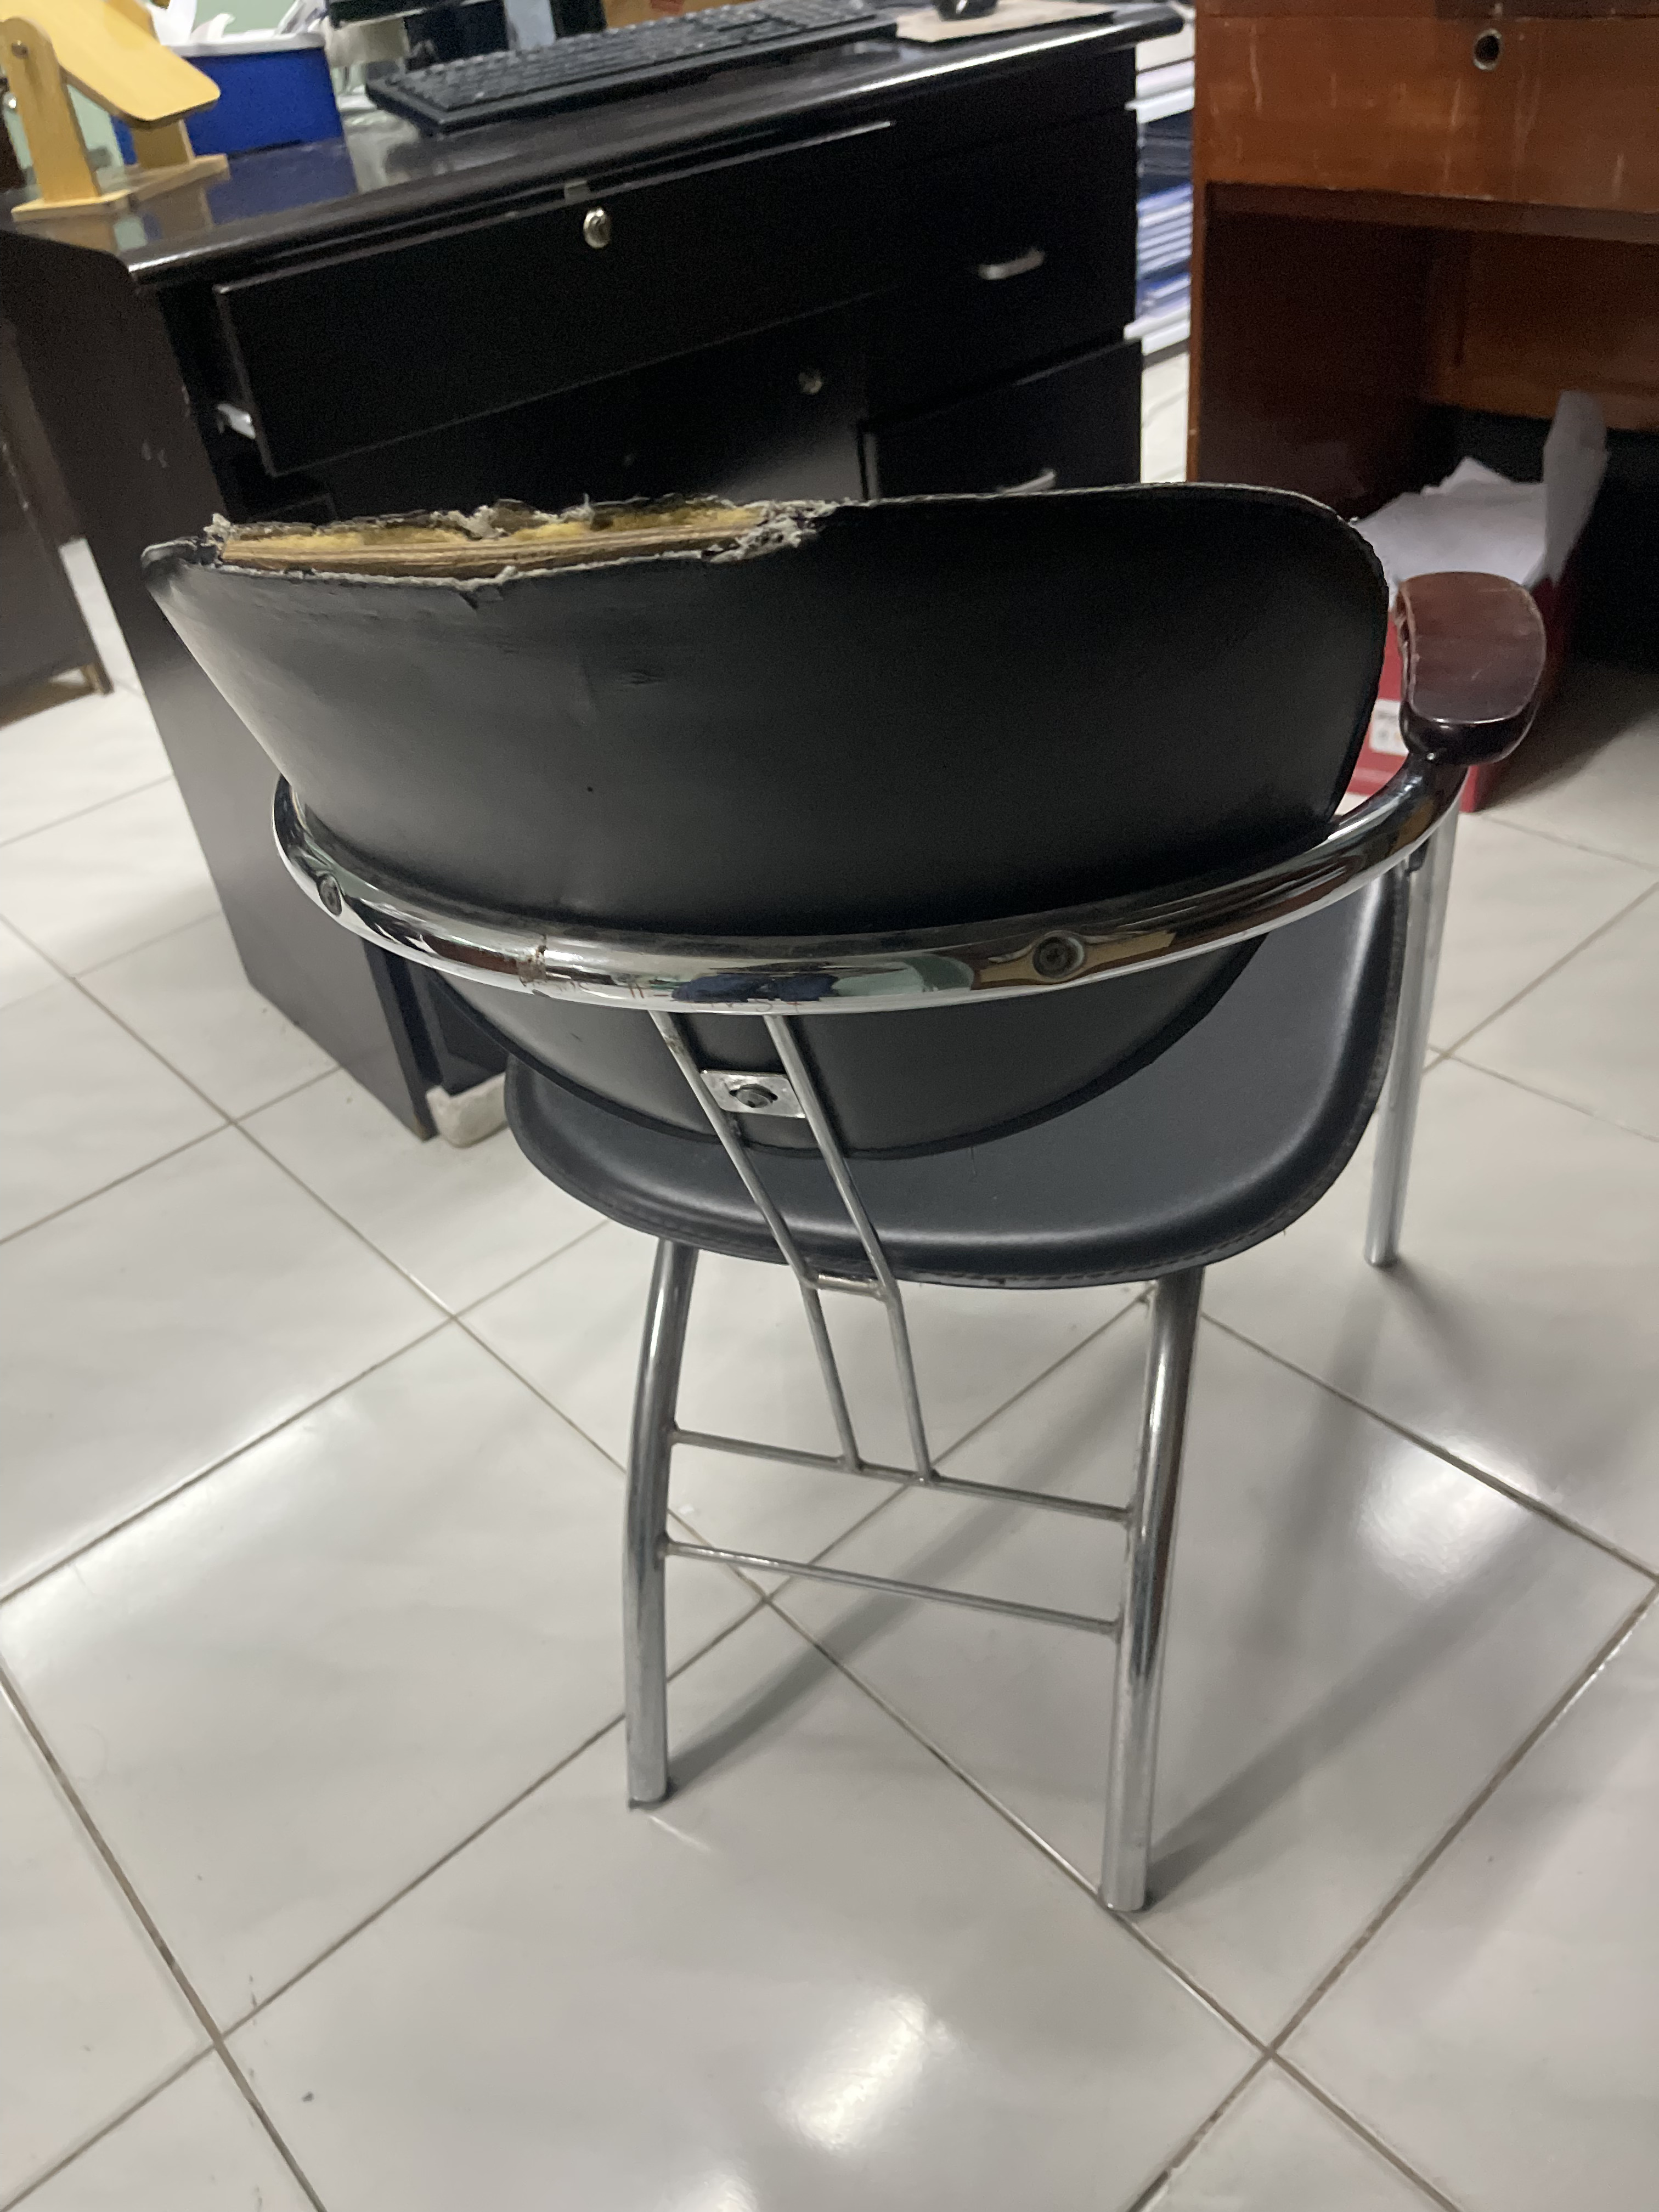chair1: (134, 482, 1659, 1925)
